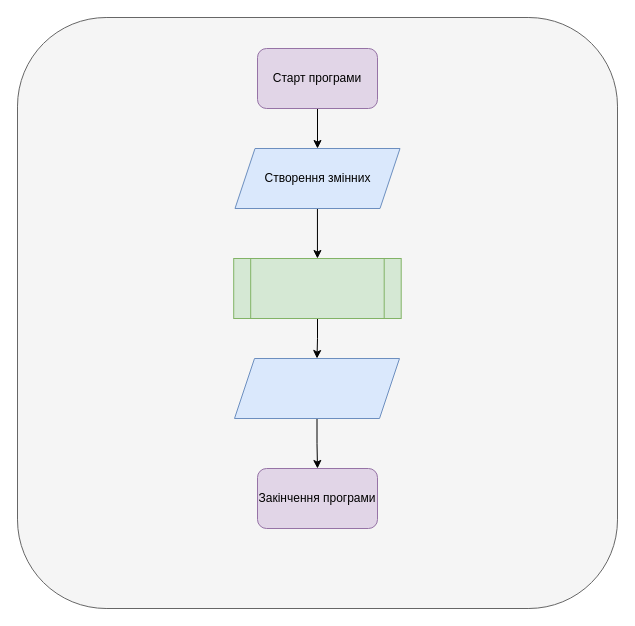
Image size: 635x626. Some labels were removed from this diagram. The box of each missing label's shape, as (x1, y1, x2, y2) in pixels:
Вивід інформації: (234, 358, 400, 418)
Обробка змінних, формування виводу для користувача: (233, 258, 401, 318)
